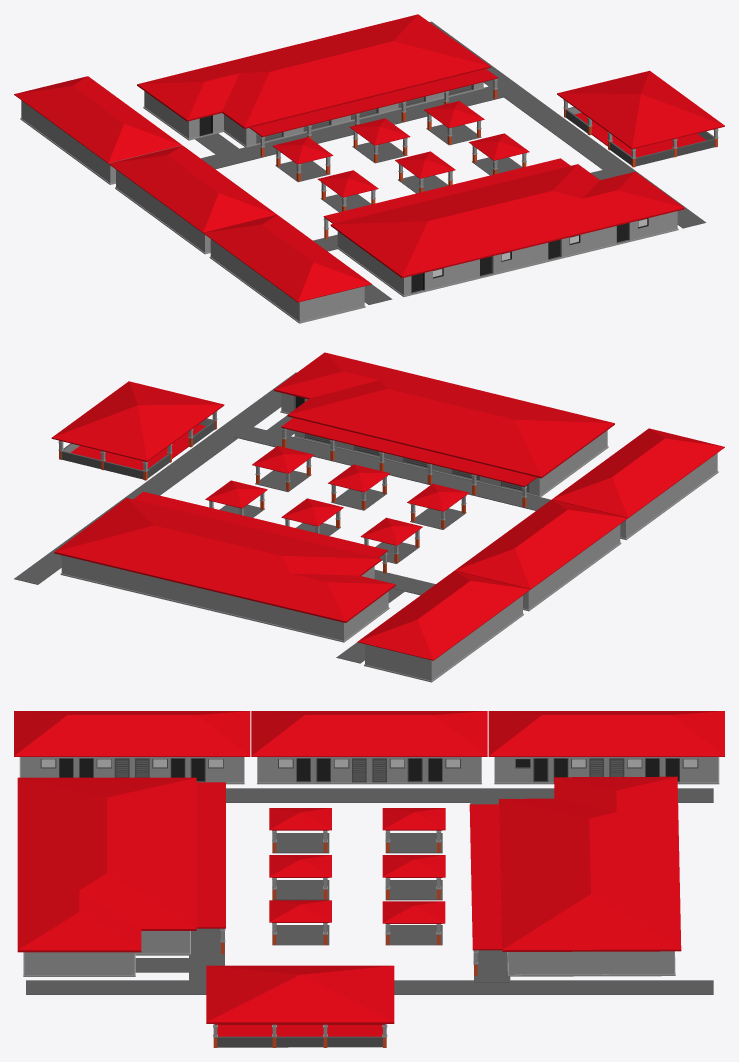
The model's file is foodsquare.fbx.
The picture shows the model from 3 angles, top to bottom: view 1: azimuth 30°, elevation 25°; view 2: azimuth 150°, elevation 25°; view 3: azimuth 270°, elevation 25°; orthographic projection. The views are drawn at different scales.
Parts seen in each view (by area): view 1: building_072.002, building_054, building_054.001, Cube.071, Cube.016, Cube.052, Cube.045, Cube.061, Cube.053, Cube.018, Cube.011, Cube.015 (+1 smaller); view 2: building_072.002, building_054.001, building_054, Cube.071, Cube.016, Cube.052, Cube.053, Cube.045, Cube.061, Cube.011, Cube.018, Cube.015 (+1 smaller); view 3: building_072.002, building_054.001, building_054, Cube.071, Cube.016, Cube.052, Cube.045, Cube.061, Cube.053, Cube.011, Cube.015, Cube.018.
Boxes of the visible parts, x1,y1,x2,y2 form: building_072.002: [14, 76, 371, 323]; building_054: [330, 164, 684, 296]; building_054.001: [137, 14, 490, 147]; Cube.071: [195, 21, 706, 304]; Cube.016: [557, 70, 724, 149]; Cube.052: [272, 101, 529, 197]; Cube.045: [275, 124, 522, 212]; Cube.061: [250, 69, 497, 137]; Cube.053: [323, 158, 570, 223]; Cube.018: [276, 112, 526, 211]; Cube.011: [566, 107, 714, 166]; Cube.015: [574, 112, 706, 157]; building_072.002: [357, 428, 724, 682]; building_054.001: [54, 498, 395, 642]; building_054: [274, 352, 614, 497]; Cube.071: [14, 372, 550, 663]; Cube.016: [51, 381, 224, 461]; Cube.052: [205, 446, 468, 545]; Cube.053: [281, 418, 537, 486]; Cube.045: [219, 470, 466, 563]; Cube.061: [133, 491, 387, 557]; Cube.011: [62, 418, 214, 479]; Cube.018: [209, 457, 466, 562]; Cube.015: [71, 424, 205, 470]; building_072.002: [14, 711, 724, 784]; building_054.001: [499, 776, 681, 976]; building_054: [17, 777, 196, 976]; Cube.071: [26, 788, 713, 994]; Cube.016: [206, 965, 394, 1024]; Cube.052: [269, 808, 445, 923]; Cube.045: [272, 833, 442, 945]; Cube.061: [469, 804, 502, 950]; Cube.053: [196, 782, 225, 928]; Cube.011: [217, 1036, 382, 1047]; Cube.015: [217, 1025, 382, 1036]; Cube.018: [272, 830, 441, 944].
Bounding box in the file's own units: 8612 × 653 × 8403.
